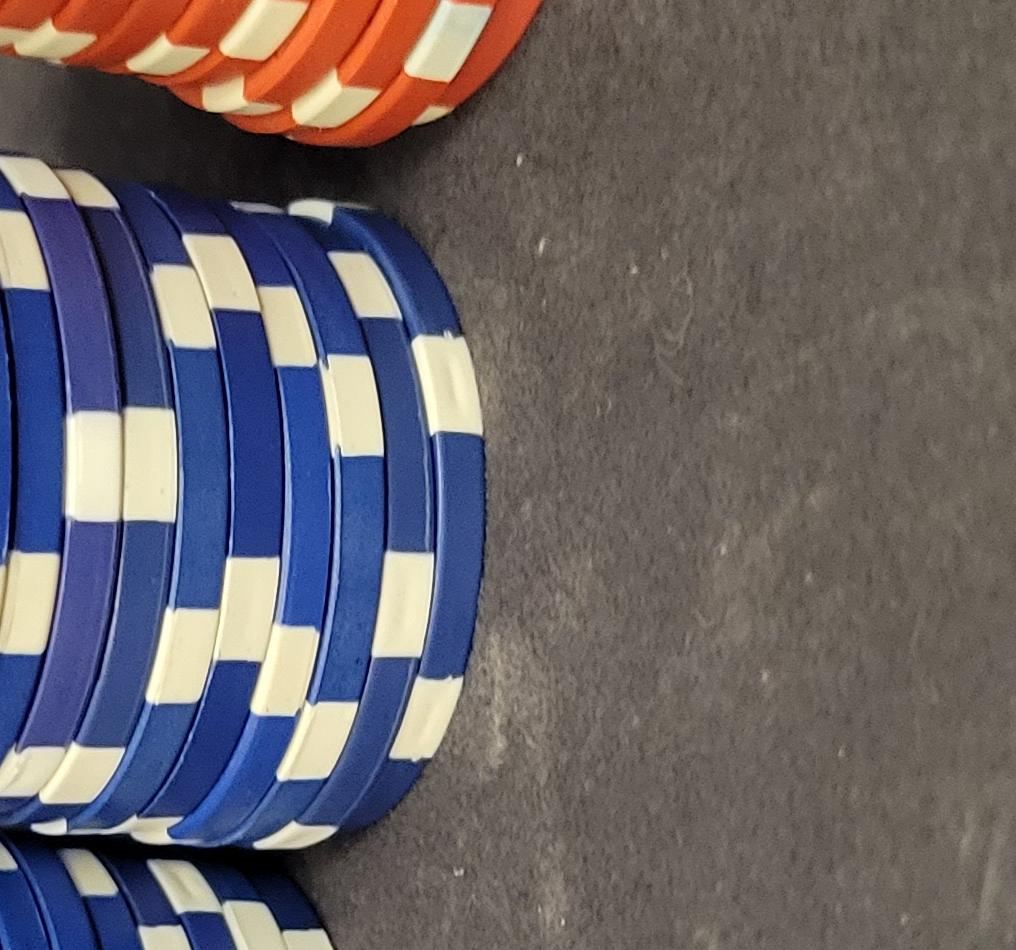Chip: (1, 287, 314, 950)
